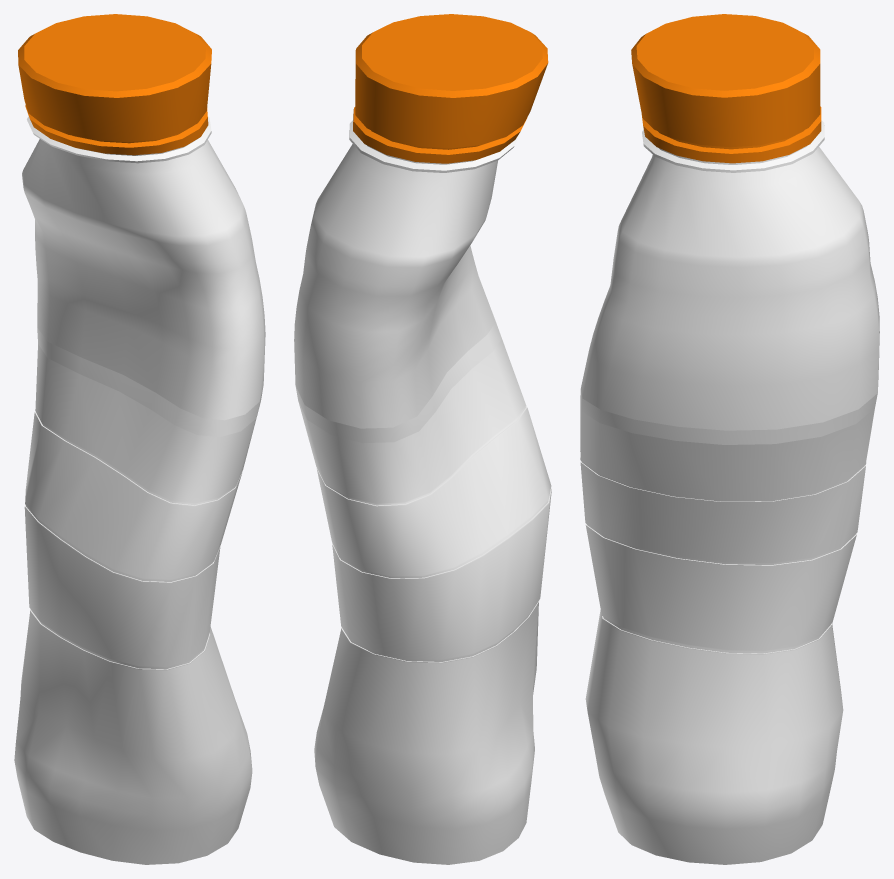
Rendered from chai5.glb.
3 renders of one model, left to right at view 1: azimuth 30°, elevation 25°; view 2: azimuth 150°, elevation 25°; view 3: azimuth 270°, elevation 25°, orthographic.
Parts seen in each view (by area): view 1: Cylinder004_Blue bottle_0, Cylinder004_Red cap_0; view 2: Cylinder004_Blue bottle_0, Cylinder004_Red cap_0; view 3: Cylinder004_Blue bottle_0, Cylinder004_Red cap_0.
Boxes of the visible parts, x1,y1,x2,y2 form: Cylinder004_Blue bottle_0: (14, 116, 265, 864); Cylinder004_Red cap_0: (18, 14, 211, 155); Cylinder004_Blue bottle_0: (294, 120, 551, 864); Cylinder004_Red cap_0: (353, 14, 548, 163); Cylinder004_Blue bottle_0: (580, 120, 879, 864); Cylinder004_Red cap_0: (631, 14, 821, 163).
Bounding box in the file's own units: 0.0164 × 0.0576 × 0.0205.
